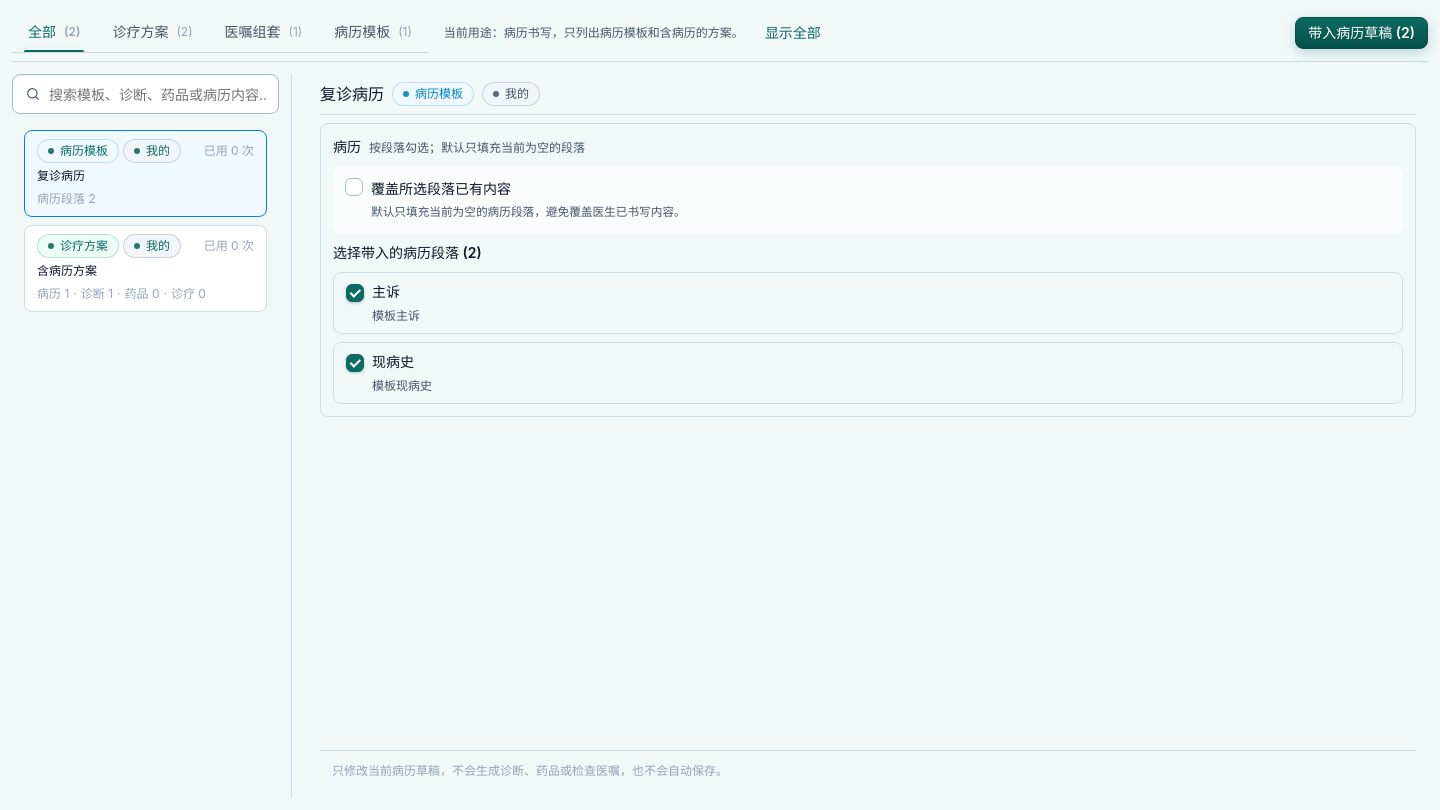
default filters by purpose › "显示全部" lifts the purpose filter on the all-view
The image size is (1440, 810).
Click the button "显示全部" at (793, 32), box [752,16,834,48]
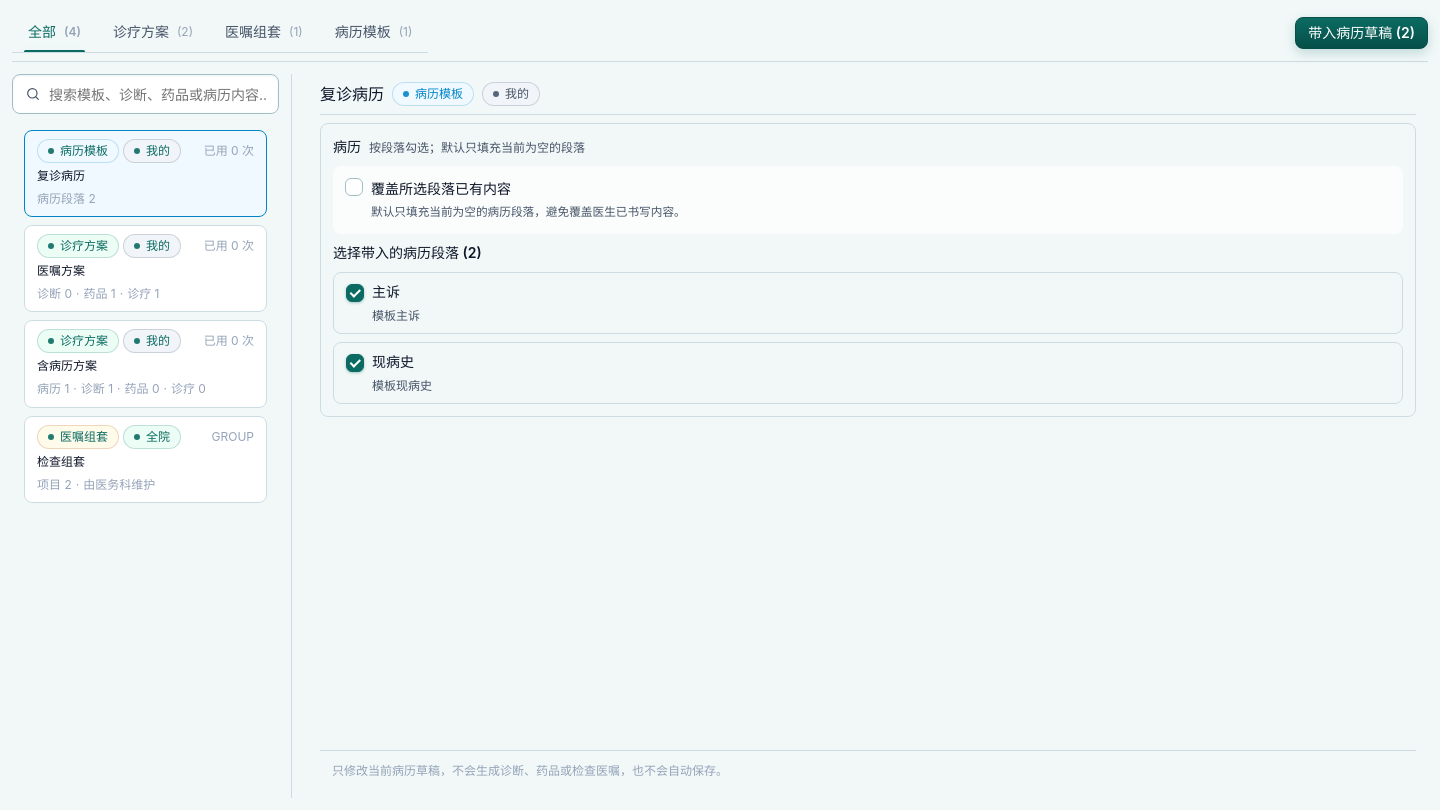
Expected: the text "当前用途" is gone
